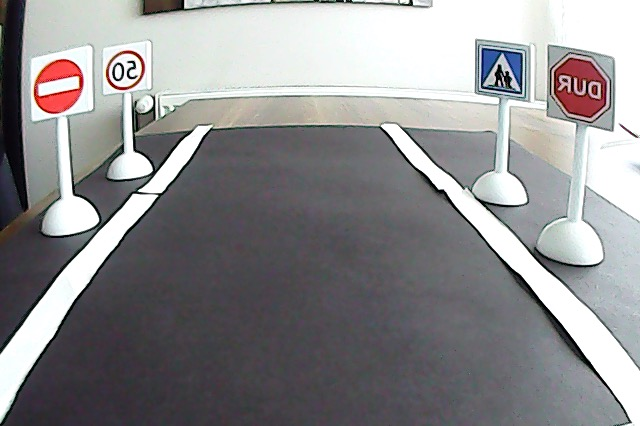do not enter: (549, 50, 607, 117)
school crossing: (110, 45, 167, 97)
speed limit 50: (491, 42, 537, 95)
stop sign: (25, 55, 91, 124)
